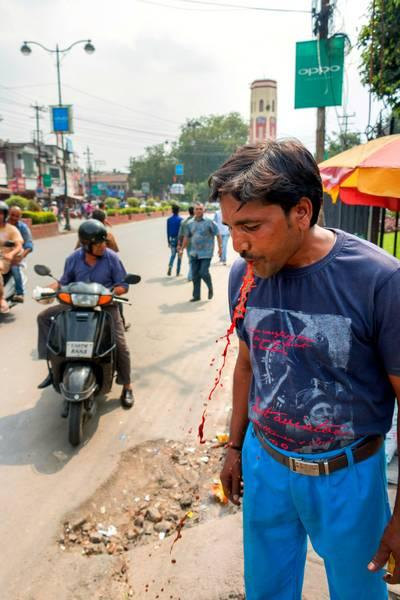Spitting: (146, 116, 366, 325)
